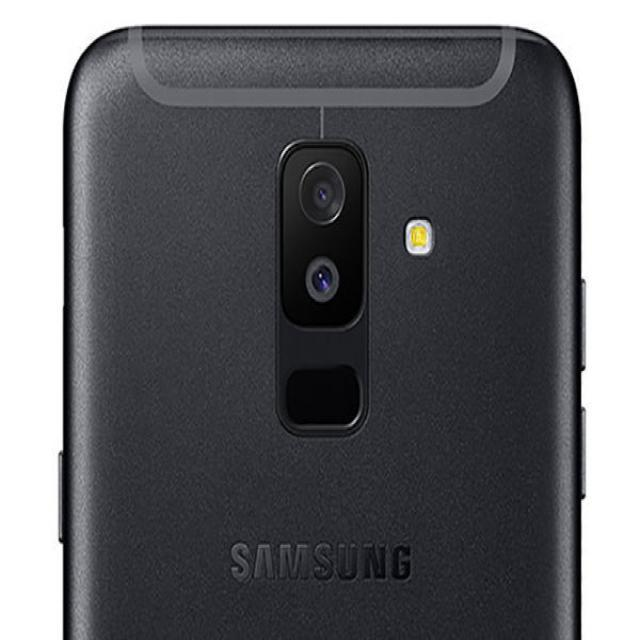phone: (59, 18, 584, 640)
